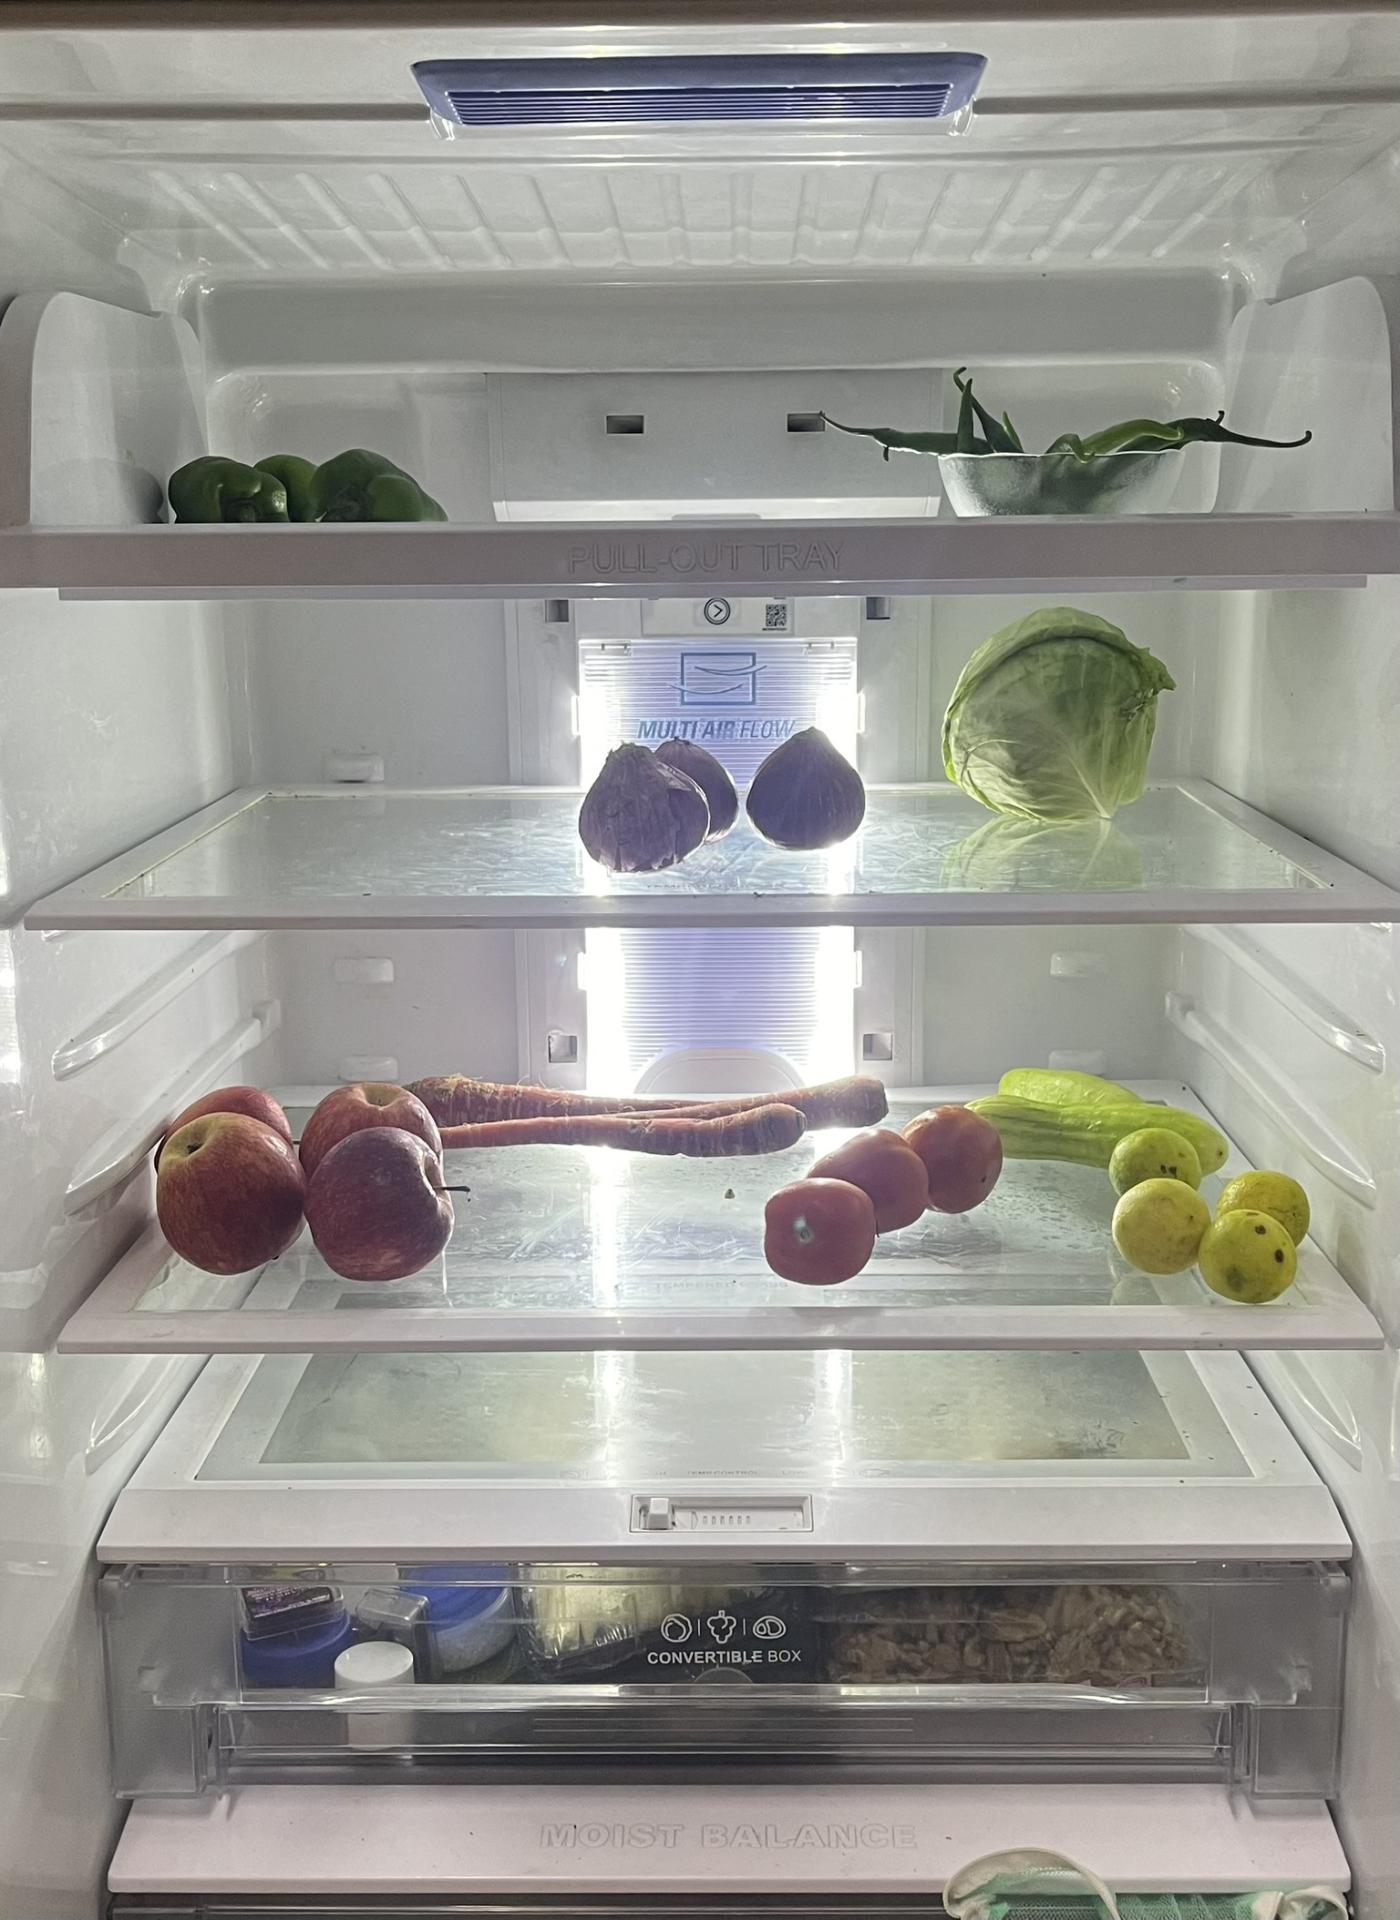apple: (155, 1069, 465, 1282)
cabbage: (936, 607, 1173, 832)
capsicum: (149, 440, 446, 522)
carrots: (416, 1066, 899, 1166)
chillies: (808, 368, 1331, 513)
cucumber: (954, 1049, 1230, 1169)
lemon: (1096, 1128, 1315, 1309)
onion: (577, 729, 750, 872), (741, 721, 878, 856)
tomato: (762, 1100, 1017, 1291)
